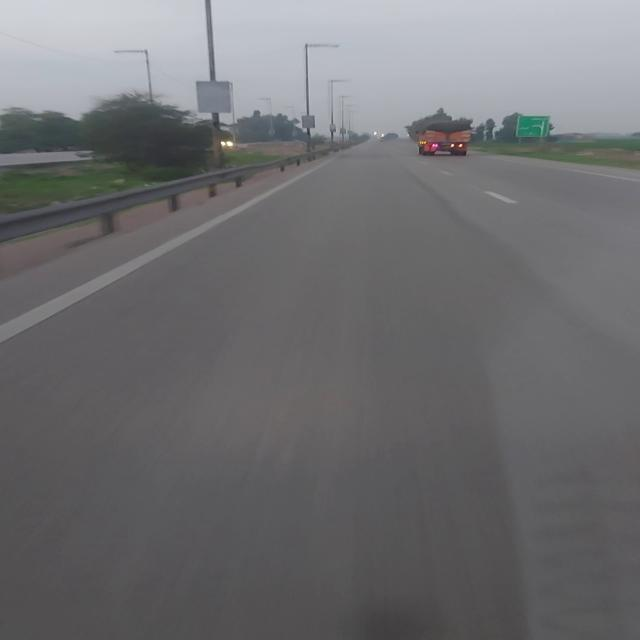Truck: (415, 121, 475, 157)
